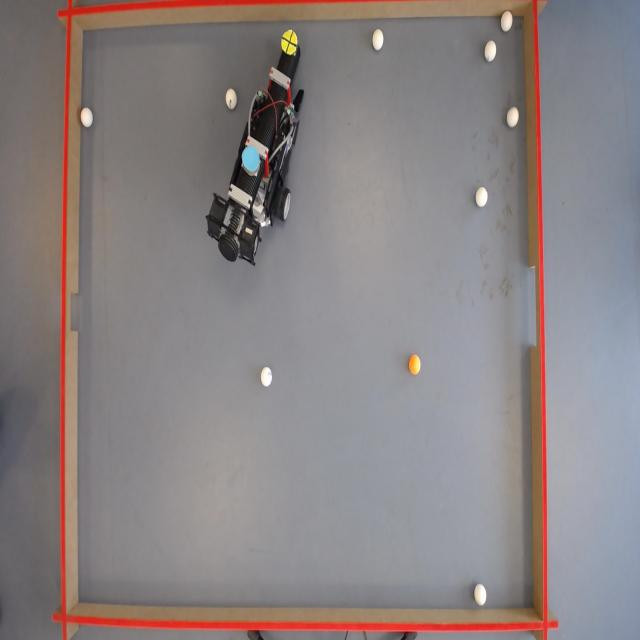orange: (407, 354, 421, 374)
robot: (203, 45, 306, 272)
robot-front: (281, 30, 298, 57)
robot-rear: (242, 142, 260, 173)
white: (473, 582, 488, 606), (485, 40, 498, 62), (506, 107, 520, 127), (80, 107, 93, 127), (262, 365, 274, 386), (373, 30, 385, 51), (224, 90, 237, 109), (500, 11, 512, 31), (476, 187, 488, 206)
